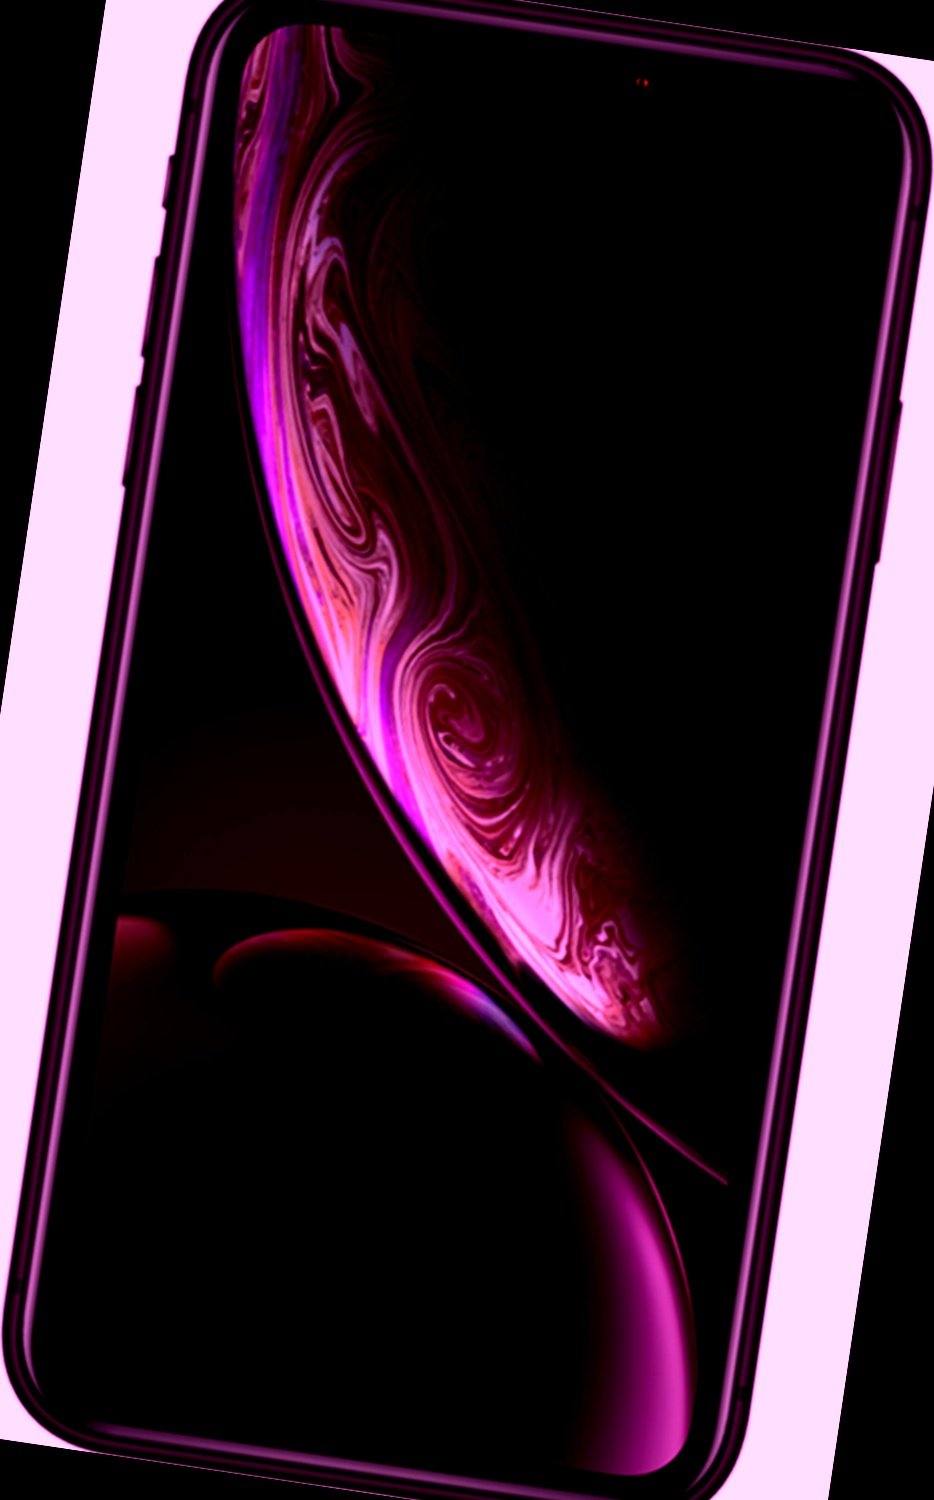iphone: (84, 3, 850, 1498)
